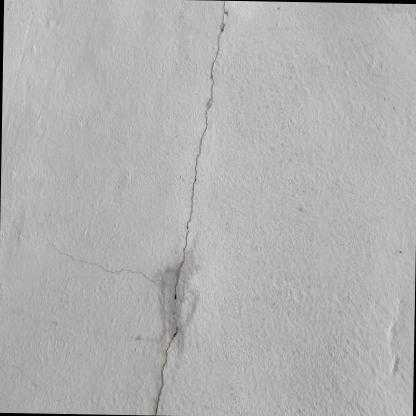crack: (153, 0, 227, 415), (0, 212, 169, 288)
